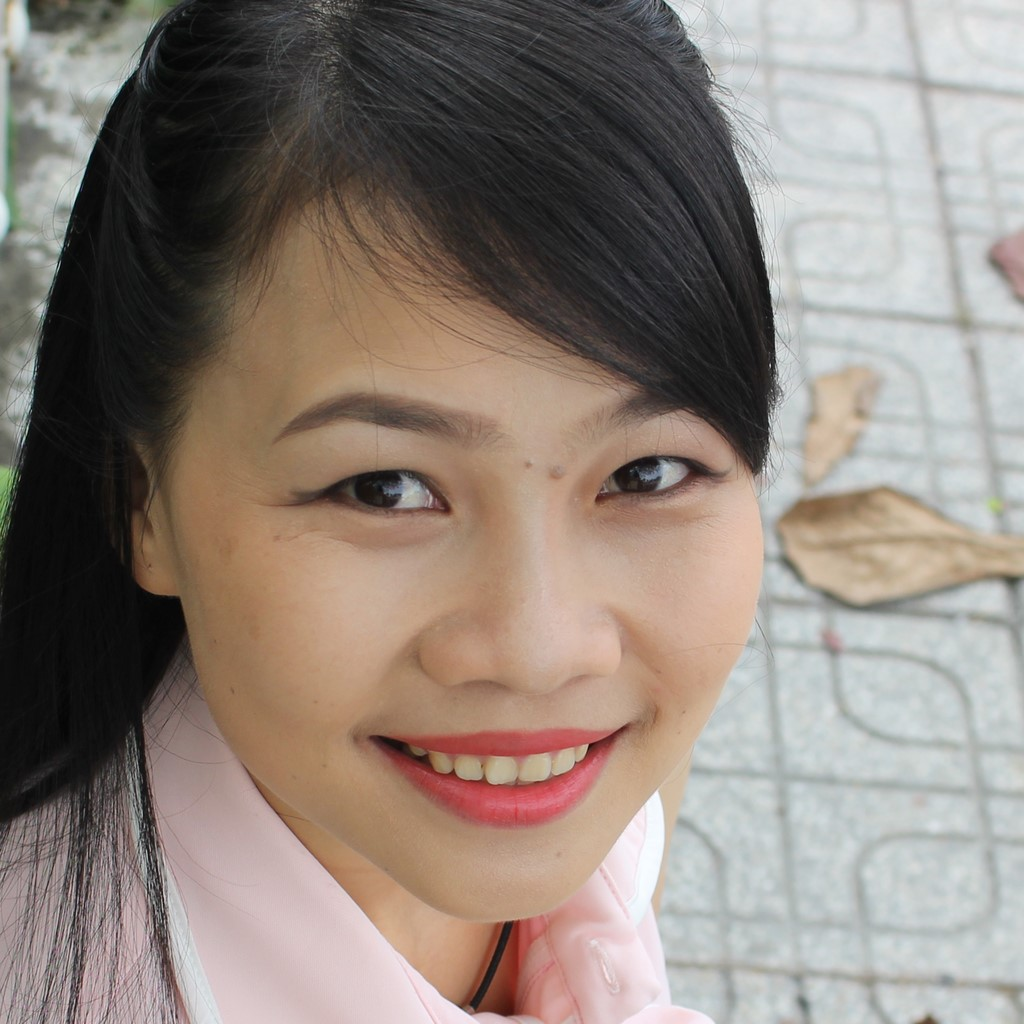sin_mascara: (134, 62, 774, 970)
